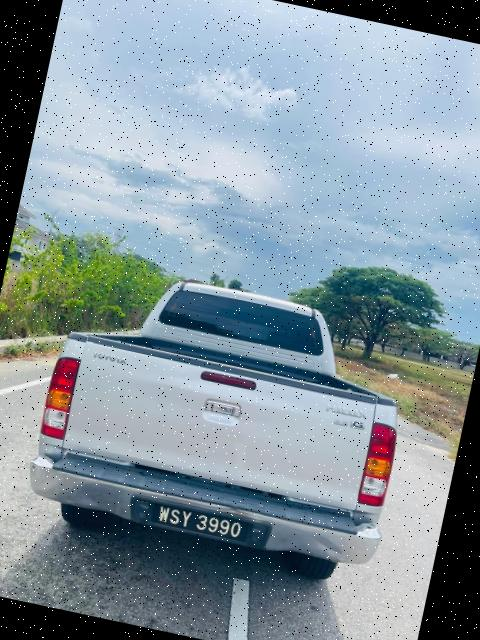License_Plate: (145, 496, 257, 549)
car: (14, 252, 432, 601)
